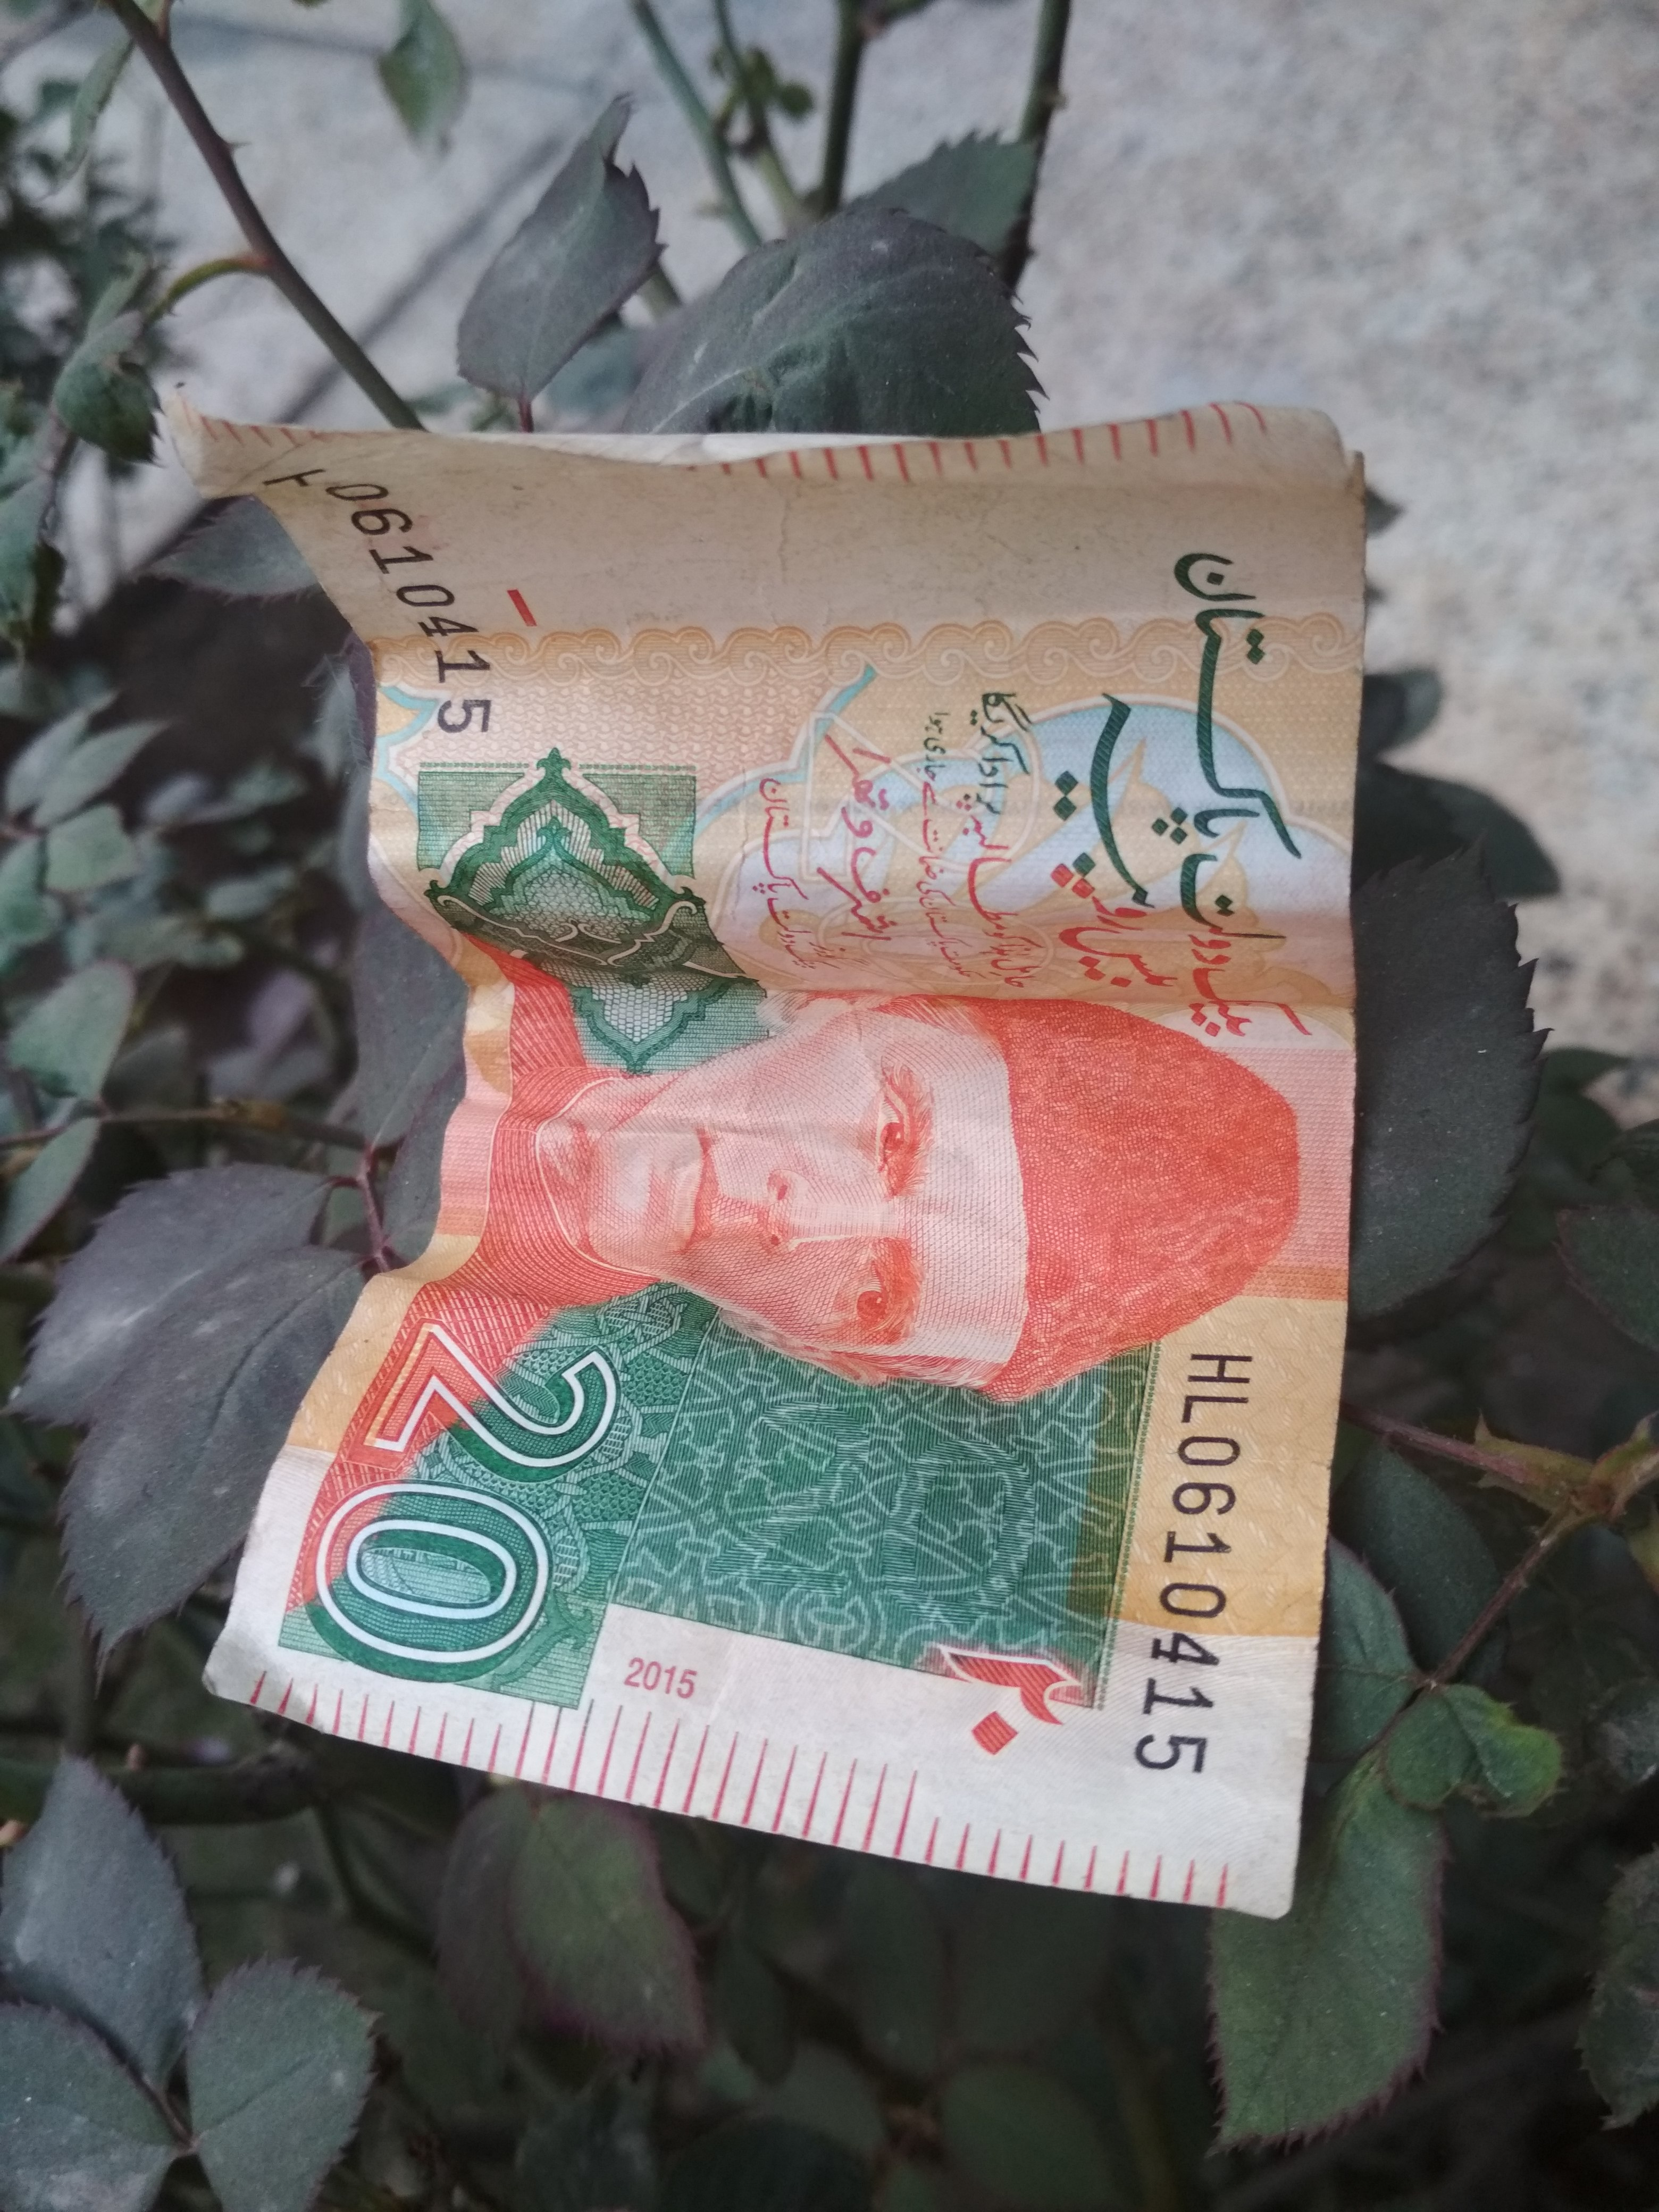20 rupee: (66, 301, 1540, 2146)
